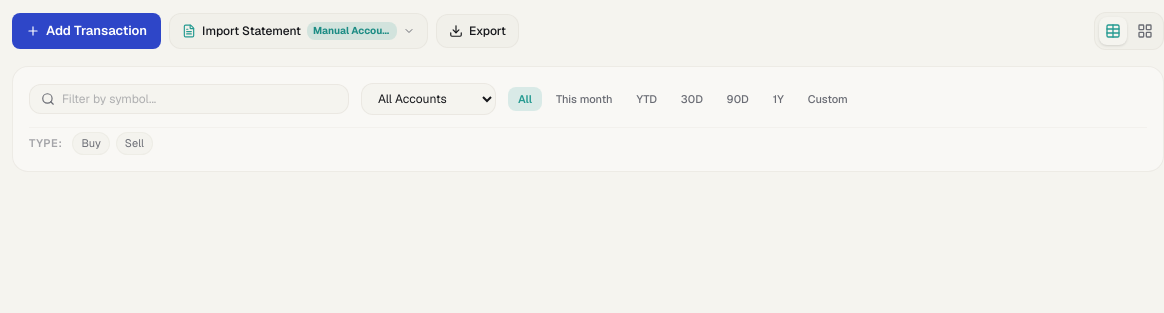
Test: Transactions Import Account Selection › renders Auto-add cash when manual account is selected
Click the button titled "Import PDF or CSV statements to an account": click(299, 31) [169,13,428,49]
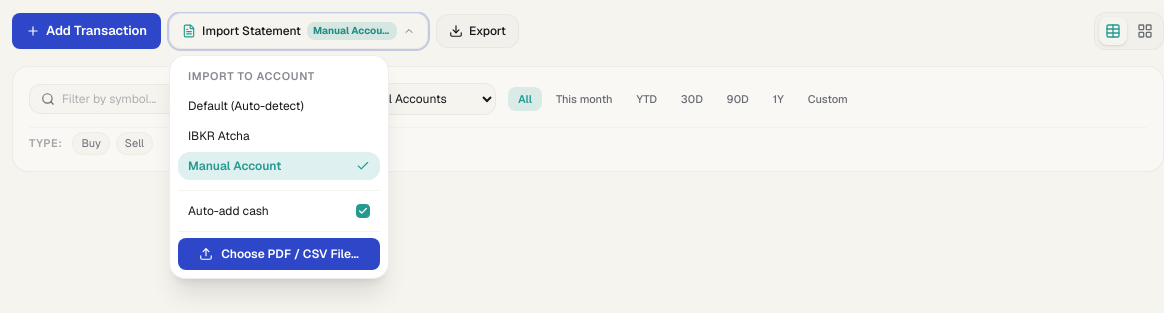
Expected: the text "Auto-add cash" is shown, [188,203,269,219]
